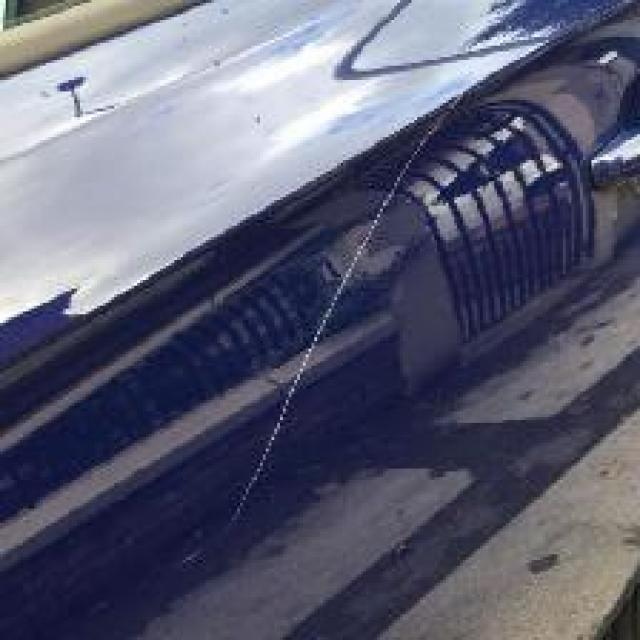damaged: (180, 82, 466, 568)
